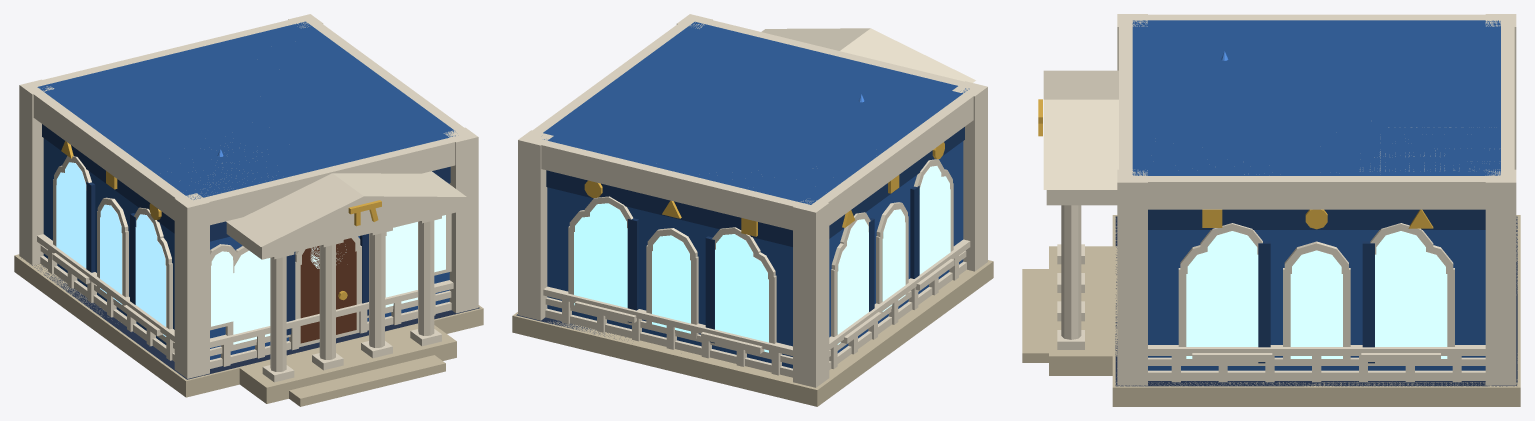
The model's file is math.glb.
3 views of the same model, side by side, from view 1: azimuth 30°, elevation 25°; view 2: azimuth 150°, elevation 25°; view 3: azimuth 270°, elevation 25° (orthographic). The views are drawn at different scales.
Parts seen in each view (by area): view 1: math_base, math_middle, math_top; view 2: math_base, math_middle, math_top; view 3: math_base, math_middle, math_top.
Boxes of the visible parts, x1,y1,x2,y2 form: math_base: (14,14,483,406); math_middle: (19,97,474,378); math_top: (21,234,479,379); math_base: (512,14,993,406); math_middle: (518,106,987,387); math_top: (516,239,970,375); math_base: (1022,14,1520,406); math_middle: (1117,41,1516,383); math_top: (1115,216,1517,386).
Bounding box in the file's own units: 2.66 × 1.66 × 3.25.
